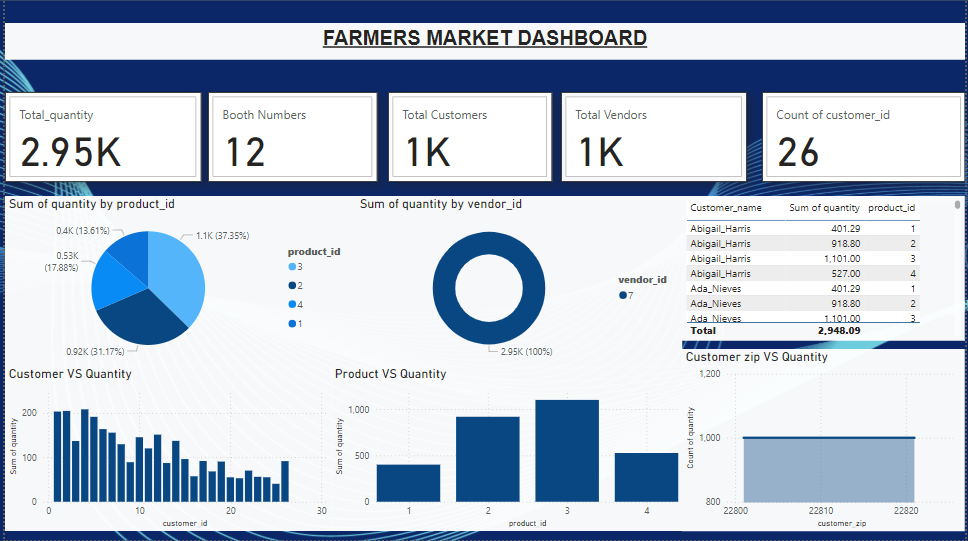

Layout of this report page (visuals, bound fields, positions):
{"tool":"powerbi","page":{"name":"Quality Wise Analysis","canvas":[1280,720],"ordinal":0},"visuals":[{"type":"columnChart","title":"Customer VS Quantity","fields":{"Category":["customer_purchases.customer_id"],"Y":["customer_purchases.quantity"]},"box":[0,488,434.7,220],"z":0},{"type":"pieChart","fields":{"Y":["customer_purchases.quantity"],"Category":["customer_purchases.product_id"]},"box":[0,261.3,468,226.7],"z":1000},{"type":"columnChart","title":"Product VS Quantity","fields":{"Category":["customer_purchases.product_id"],"Y":["customer_purchases.quantity"]},"box":[434.7,488,468,220],"z":2000},{"type":"donutChart","fields":{"Category":["customer_purchases.vendor_id"],"Y":["customer_purchases.quantity"]},"box":[468,261.3,434.7,226.7],"z":3000},{"type":"textbox","box":[0,30.7,1280,49.3],"z":4000},{"type":"cardVisual","fields":{"Data":["customer_purchases.customer_id"]},"box":[510.6,122.5,218.8,119.7],"z":5000},{"type":"cardVisual","fields":{"Data":["customer_purchases.Total_quantity"]},"box":[0,122.5,261.5,119.7],"z":6000},{"type":"cardVisual","fields":{"Data":["booth.booth_number"]},"box":[271.1,122.5,225.7,119.7],"z":7000},{"type":"cardVisual","fields":{"Data":["customer_purchases.vendor_id"]},"box":[741.8,122.5,247.7,119.7],"z":8000},{"type":"cardVisual","fields":{"Data":["customer.customer_id"]},"box":[1008.9,122.5,271.1,119.7],"z":9000},{"type":"areaChart","title":"Customer zip VS Quantity","fields":{"Category":["customer.customer_zip"],"Y":["customer_purchases.quantity"]},"box":[902.7,465.3,377.3,242.7],"z":10000},{"type":"tableEx","fields":{"Values":["customer.Customer_name","customer_purchases.quantity","customer_purchases.product_id"]},"box":[902.7,261.3,377.3,193.3],"z":11000}]}

Visuals, with their boxes in screenshot pixels (x1, y1, x2, y2), scaled from the page's 1280x720 canvas onto the 968x541 screenshot:
"Customer VS Quantity" columnChart: box=[0, 367, 329, 532]
pieChart - customer_purchases.quantity x customer_purchases.product_id: box=[0, 196, 354, 367]
"Product VS Quantity" columnChart: box=[329, 367, 683, 532]
donutChart - customer_purchases.vendor_id x customer_purchases.quantity: box=[354, 196, 683, 367]
textbox: box=[0, 23, 967, 60]
cardVisual - customer_purchases.customer_id: box=[386, 92, 552, 182]
cardVisual - customer_purchases.Total_quantity: box=[0, 92, 198, 182]
cardVisual - booth.booth_number: box=[205, 92, 376, 182]
cardVisual - customer_purchases.vendor_id: box=[561, 92, 748, 182]
cardVisual - customer.customer_id: box=[763, 92, 967, 182]
"Customer zip VS Quantity" areaChart: box=[683, 350, 967, 532]
tableEx - customer.Customer_name x customer_purchases.quantity: box=[683, 196, 967, 342]
